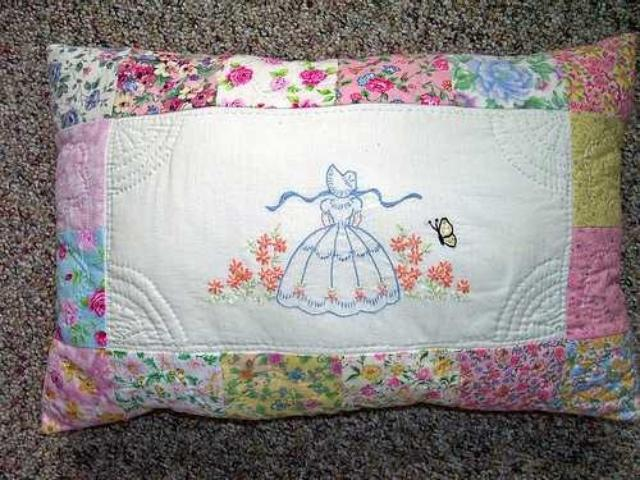pillow: (39, 32, 639, 434)
